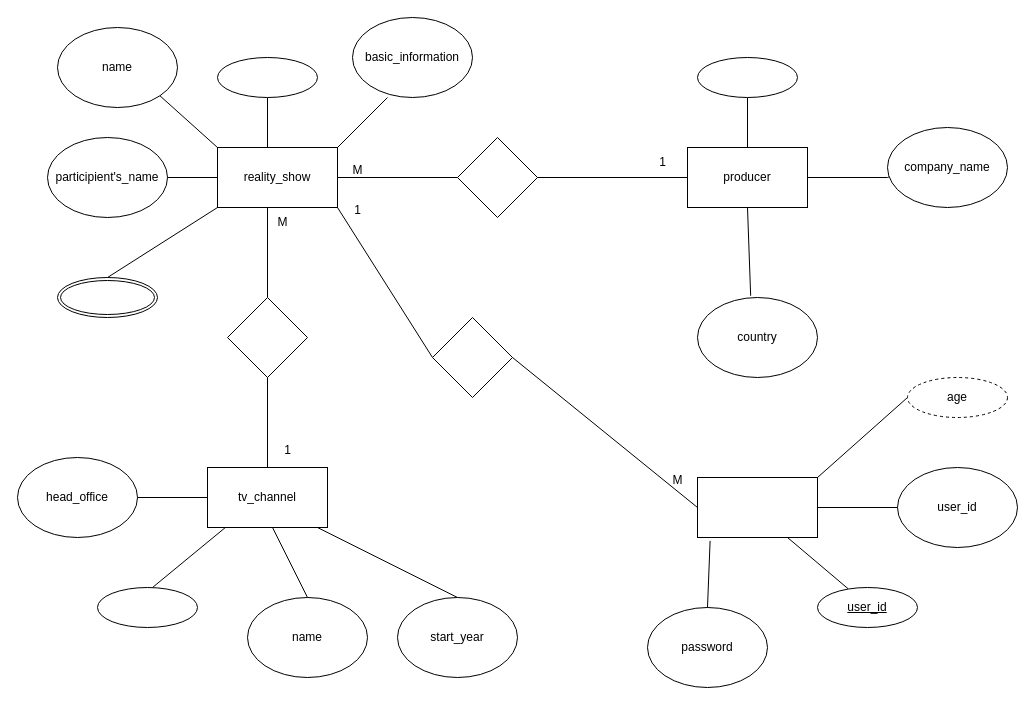
Image size: 1035x705. Some labels were removed from this diagram. Each missing label, with the centre of its shape:
broadcast: point (267, 337)
participiens: point (107, 297)
produce: point (497, 177)
producer_id: point (747, 77)
rate: point (472, 357)
reality_show_id: point (267, 77)
tv_channel_id: point (147, 607)
user: point (757, 507)
